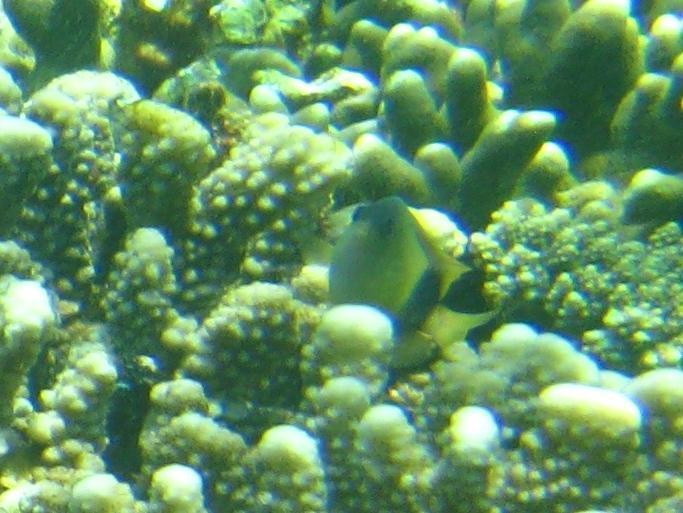Fish: (310, 168, 503, 388)
